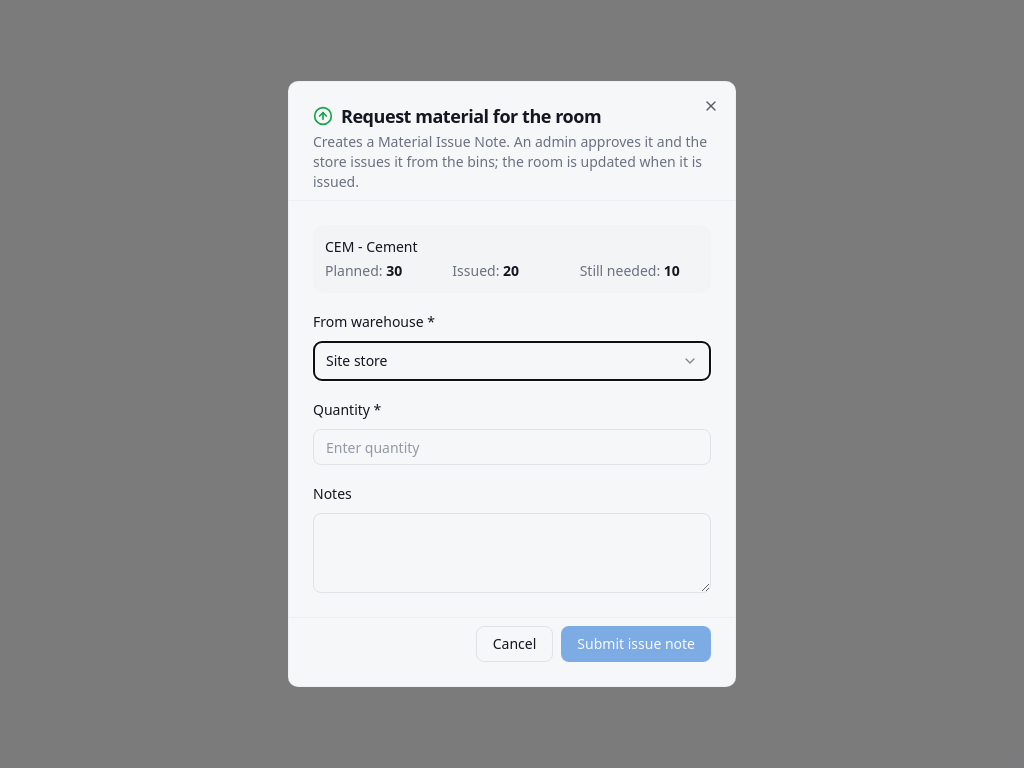
it: Room materials go through issue and return notes › requests from the project's warehouse, within what is still planned
Later steps or results of the test are not shown.
Expected: the text "Creates a Material Issue Note" is shown, 313,132 -> 707,191
Step 1. Type "11" into the number field labelled "Quantity *" → (512, 447), box 313,429 -> 711,465
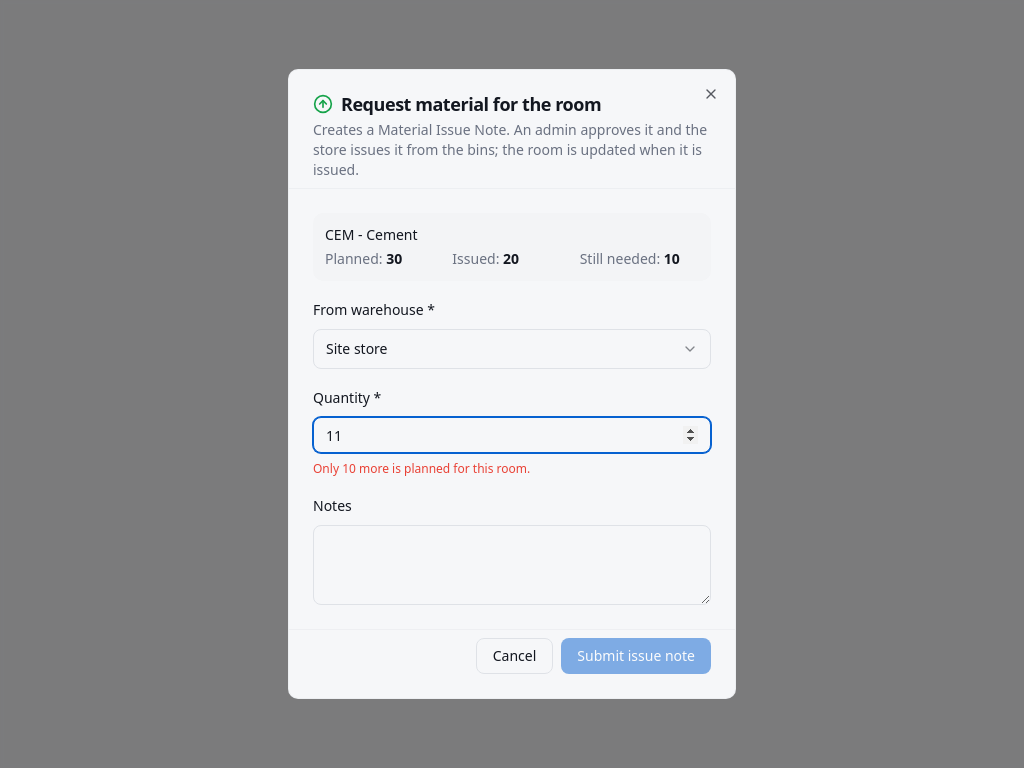
Expected: the button "Submit issue note" is disabled, 561,638 -> 711,674
Now the text "Only 10 more is planned for this room." is shown, box 313,460 -> 530,477
